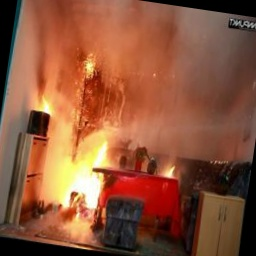fire: (60, 135, 114, 215)
smoke: (69, 6, 256, 154)
